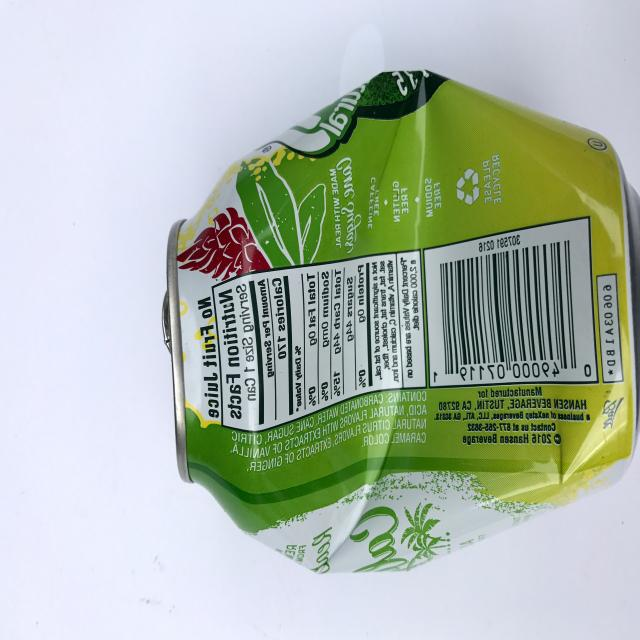metal: (161, 67, 640, 575)
